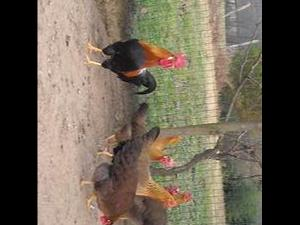hen: (85, 35, 189, 94)
